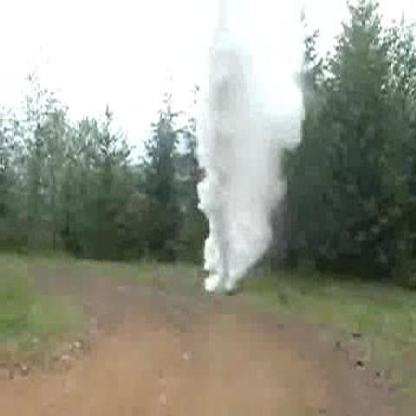Smoke: (198, 0, 306, 287)
